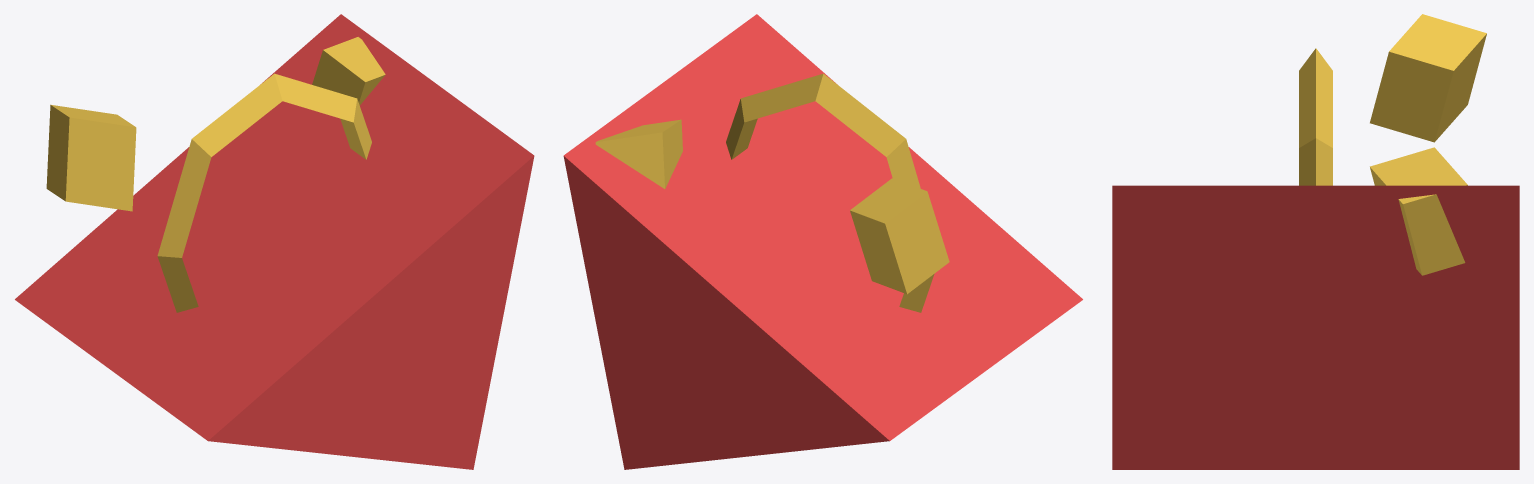
Rendered from damage_effect__damaged.glb.
The picture shows the model from 3 angles, left to right: view 1: azimuth 30°, elevation 25°; view 2: azimuth 150°, elevation 25°; view 3: azimuth 270°, elevation 25°; orthographic projection. The views are drawn at different scales.
Visible parts, largest first — view 1: ROLE_critical, ROLE_warning; view 2: ROLE_critical, ROLE_warning; view 3: ROLE_critical, ROLE_warning.
Part boxes in pixels (bbox=[...]): ROLE_critical: bbox=[15, 14, 534, 469]; ROLE_warning: bbox=[46, 37, 385, 312]; ROLE_critical: bbox=[563, 14, 1082, 469]; ROLE_warning: bbox=[595, 73, 949, 312]; ROLE_critical: bbox=[1112, 185, 1519, 469]; ROLE_warning: bbox=[1299, 14, 1486, 275].
Bounding box in the file's own units: 4 × 4 × 4.
